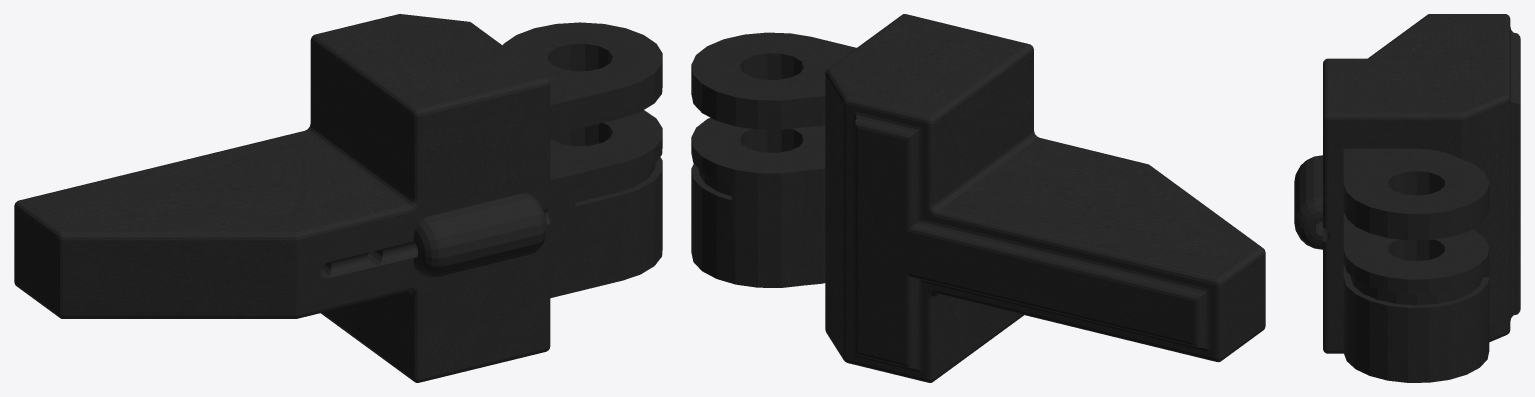
The model's file is gripper_left_distal_link.dae.
The picture shows the model from 3 angles, left to right: view 1: azimuth 30°, elevation 25°; view 2: azimuth 150°, elevation 25°; view 3: azimuth 270°, elevation 25°; orthographic projection. The views are drawn at different scales.
Parts seen in each view (by area): view 1: node; view 2: node; view 3: node.
Boxes of the visible parts, left/top/right/bottom form: node: left=14, top=14, right=662, bottom=382; node: left=691, top=14, right=1265, bottom=382; node: left=1294, top=14, right=1520, bottom=382.
Size of the model in its own units: 0.057 by 0.0217 by 0.0254.
1 material, 1 textured.
